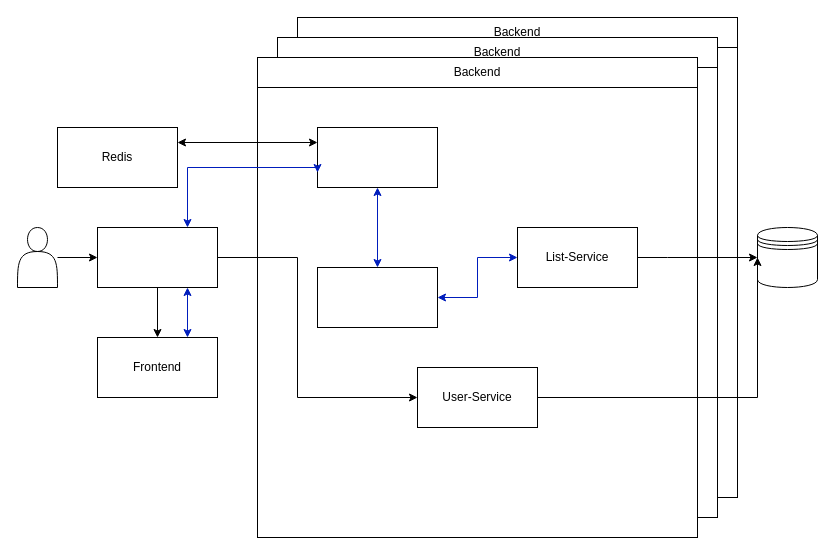
Some shapes in this 835 by 555 pixel diagram are drawn without their labels. Each missing label, with the centre of its shape:
"Kafka-Broker" goes at point 377,297.
"Load Balancer" goes at point 157,257.
"Server" goes at point 377,157.
